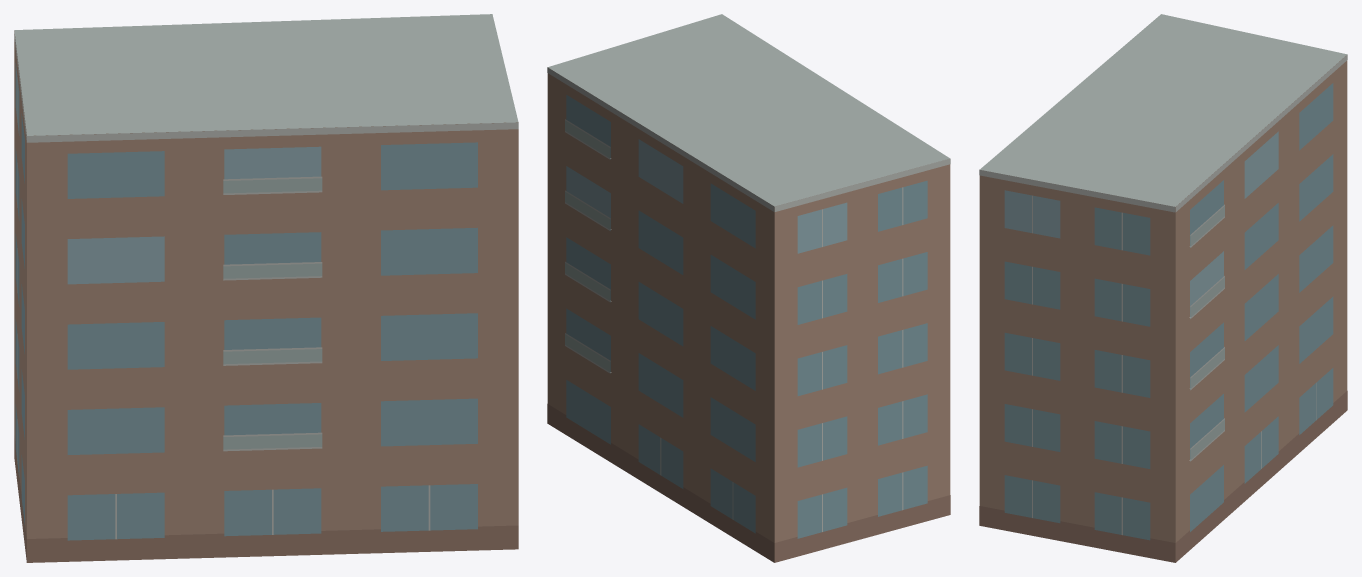
File: survey-upis-32902642.glb
3 renders of one model, left to right at view 1: azimuth 30°, elevation 25°; view 2: azimuth 150°, elevation 25°; view 3: azimuth 270°, elevation 25°, orthographic. The views are drawn at different scales.
Visible parts, largest first — view 1: survey-upis-32902642.tmp; view 2: survey-upis-32902642.tmp; view 3: survey-upis-32902642.tmp.
Part boxes in pixels (x1,y1,x2,y2): survey-upis-32902642.tmp: [14, 14, 518, 562]; survey-upis-32902642.tmp: [547, 14, 950, 562]; survey-upis-32902642.tmp: [979, 14, 1347, 562].
Size of the model in its own units: 17.73 by 15.25 by 14.3.
